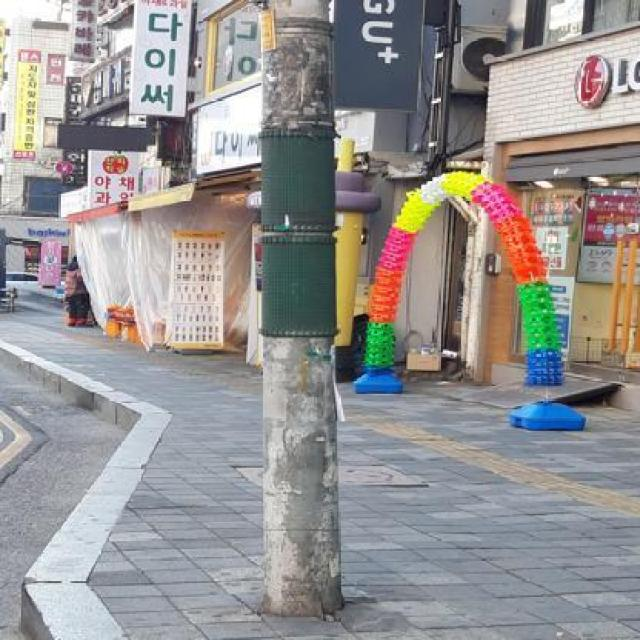pole: (238, 0, 368, 629)
